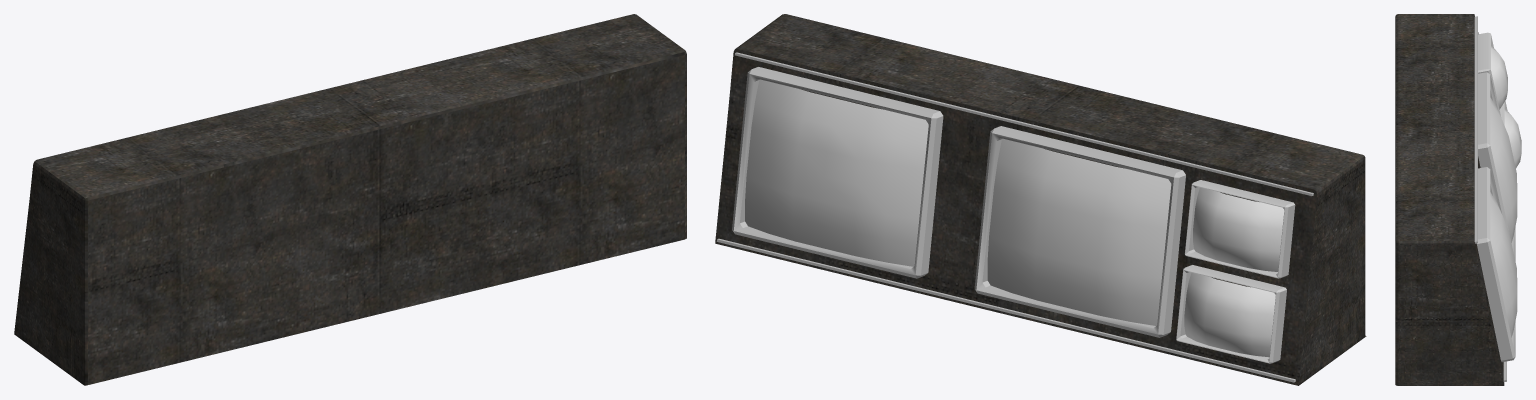
File: Screen.fbx
3 views of the same model, side by side, from view 1: azimuth 30°, elevation 25°; view 2: azimuth 150°, elevation 25°; view 3: azimuth 270°, elevation 25° (orthographic). The views are drawn at different scales.
Visible parts, largest first — view 1: Mesh_Computer_Monitor.011; view 2: Mesh_Computer_Monitor.001, Mesh_Computer_Monitor.011; view 3: Mesh_Computer_Monitor.011, Mesh_Computer_Monitor.001.
Boxes of the visible parts, <box> form: Mesh_Computer_Monitor.011: <box>14,14,686,385</box>; Mesh_Computer_Monitor.001: <box>732,67,1295,363</box>; Mesh_Computer_Monitor.011: <box>715,14,1366,385</box>; Mesh_Computer_Monitor.011: <box>1395,14,1506,385</box>; Mesh_Computer_Monitor.001: <box>1476,32,1521,362</box>.
Bounding box in the file's own units: 145 × 43.13 × 34.02.
